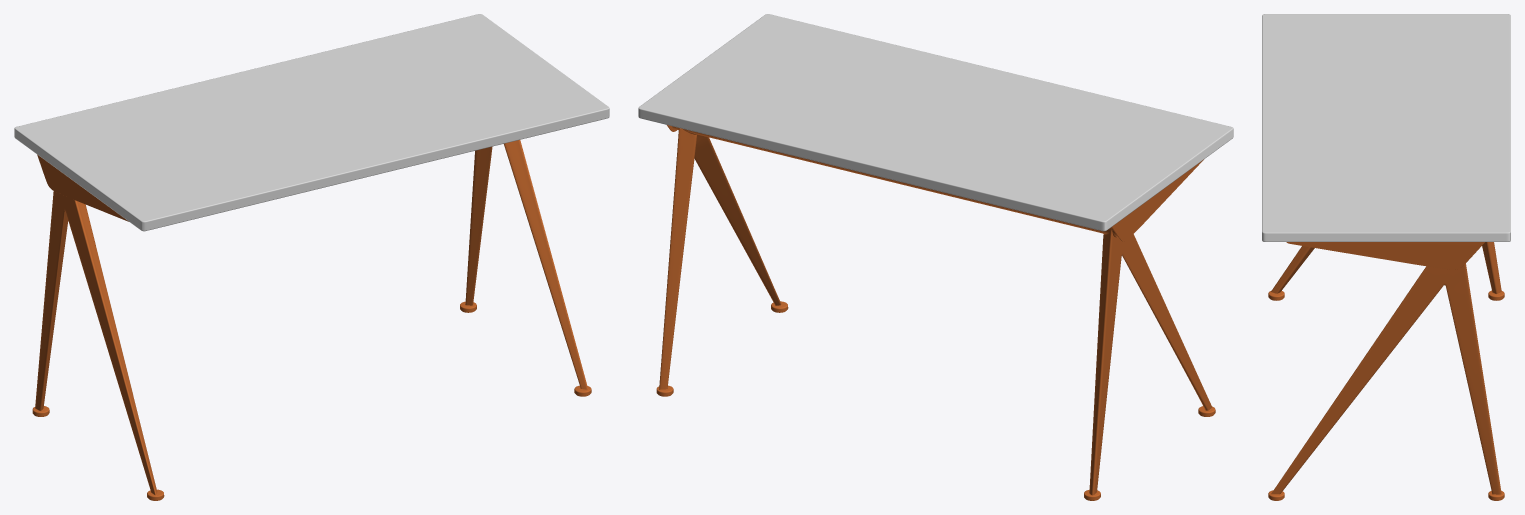
File: desk.gltf
The picture shows the model from 3 angles, left to right: view 1: azimuth 30°, elevation 25°; view 2: azimuth 150°, elevation 25°; view 3: azimuth 270°, elevation 25°; orthographic projection. The views are drawn at different scales.
Visible parts, largest first — view 1: Vitra_Compas_Direction_mat(2); view 2: Vitra_Compas_Direction_mat(2); view 3: Vitra_Compas_Direction_mat(2).
Boxes of the visible parts, <box> form: Vitra_Compas_Direction_mat(2): <box>14,14,609,500</box>; Vitra_Compas_Direction_mat(2): <box>638,14,1233,500</box>; Vitra_Compas_Direction_mat(2): <box>1262,14,1510,500</box>.
Size of the model in its own units: 125 by 73 by 60.
